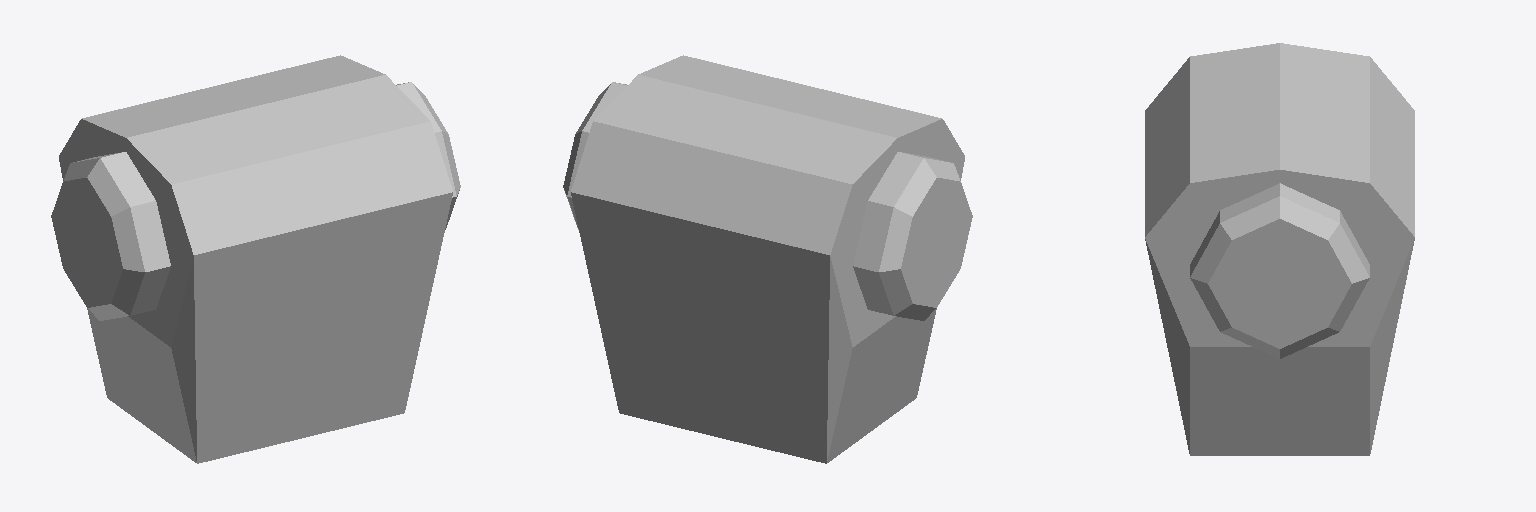
File: body.obj
3 views of the same model, side by side, from view 1: azimuth 30°, elevation 25°; view 2: azimuth 150°, elevation 25°; view 3: azimuth 270°, elevation 25° (orthographic).
Visible parts, largest first — view 1: Cube_Cube.002; view 2: Cube_Cube.002; view 3: Cube_Cube.002.
Boxes of the visible parts, x1,y1,x2,y2 form: Cube_Cube.002: [51, 55, 460, 463]; Cube_Cube.002: [563, 55, 972, 463]; Cube_Cube.002: [1145, 43, 1414, 455].
Bounding box in the file's own units: 2.6 × 2.2 × 1.8.